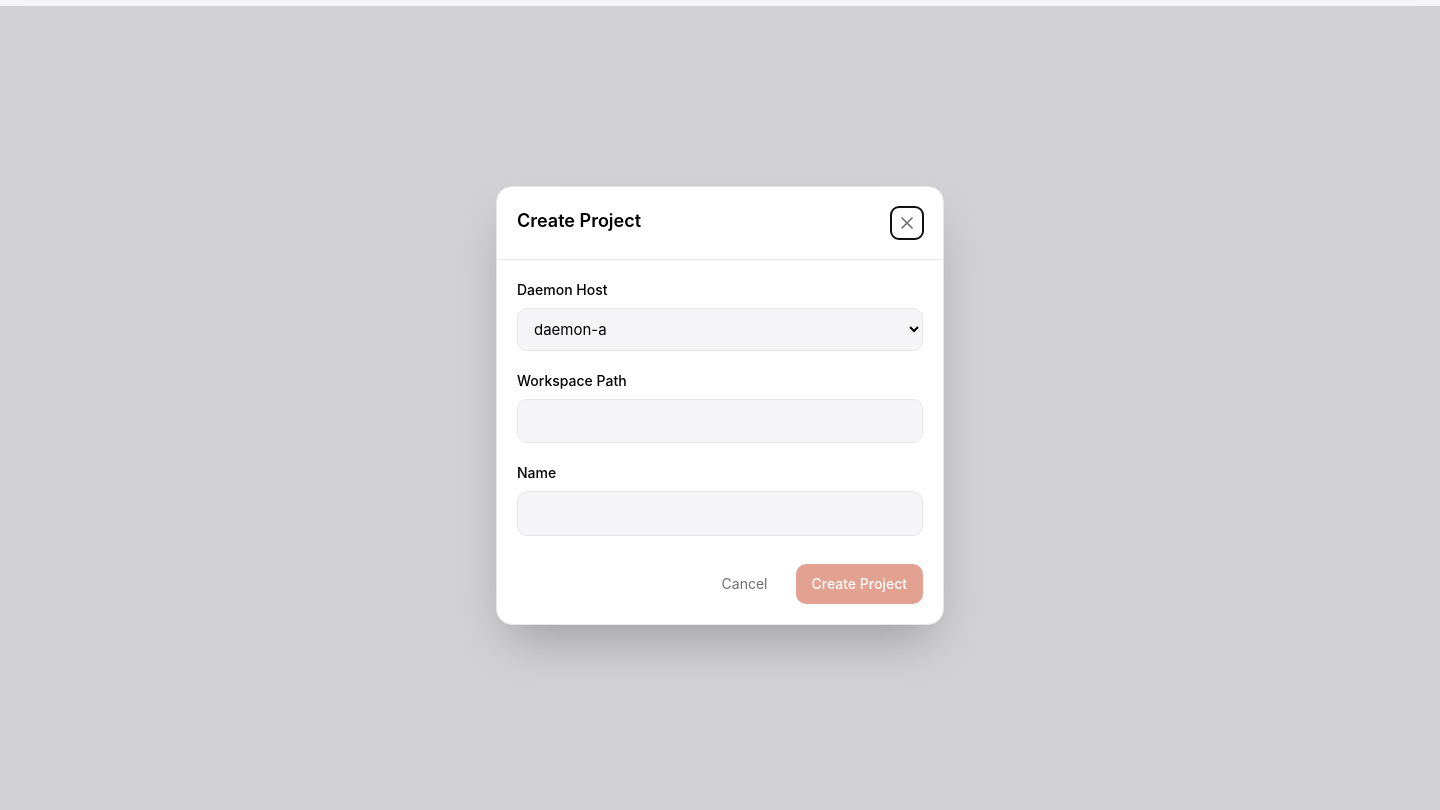
CreateProjectDialog › hides the create-directory prompt when the daemon is switched
In the field labelled "Workspace Path": (720, 421) [517,398,923,443], type "/repo/only-on-a"
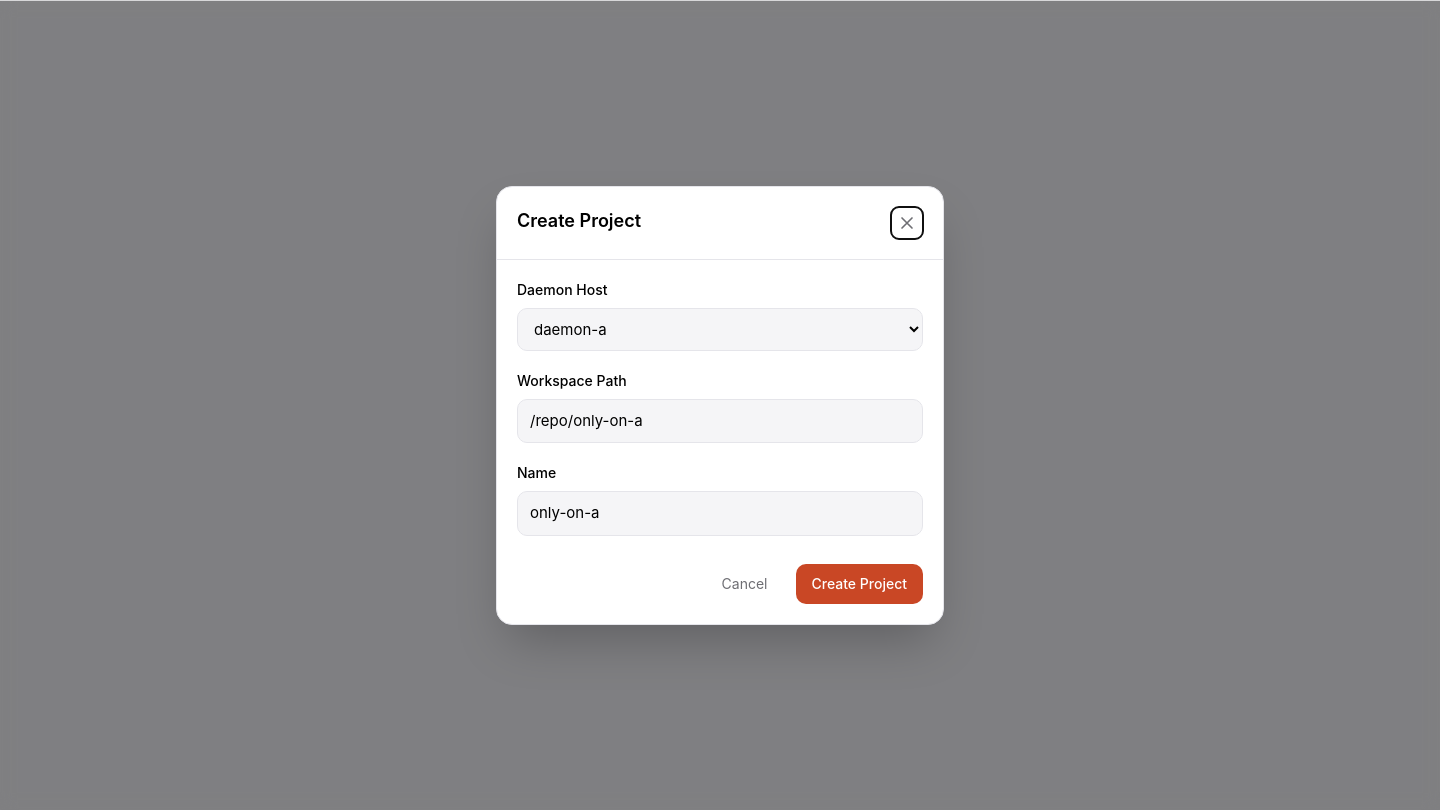
Click the button "Create Project": (859, 584) [796,564,923,604]
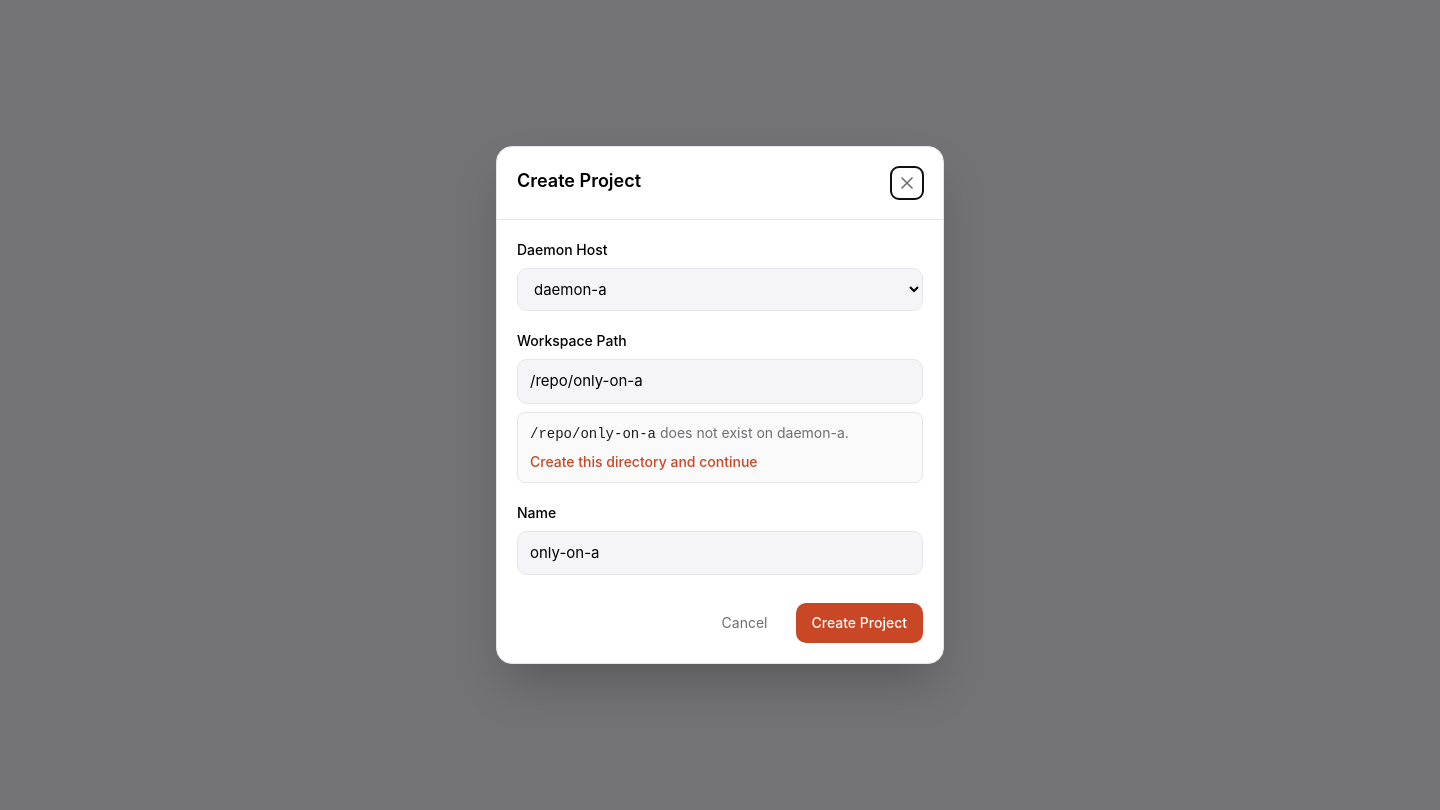
Check: the button "Create this directory and continue" is shown, box [530,452,758,472]
Select "daemon-b" in the dropdown labelled "Daemon Host": (720, 290) [517,268,923,311]
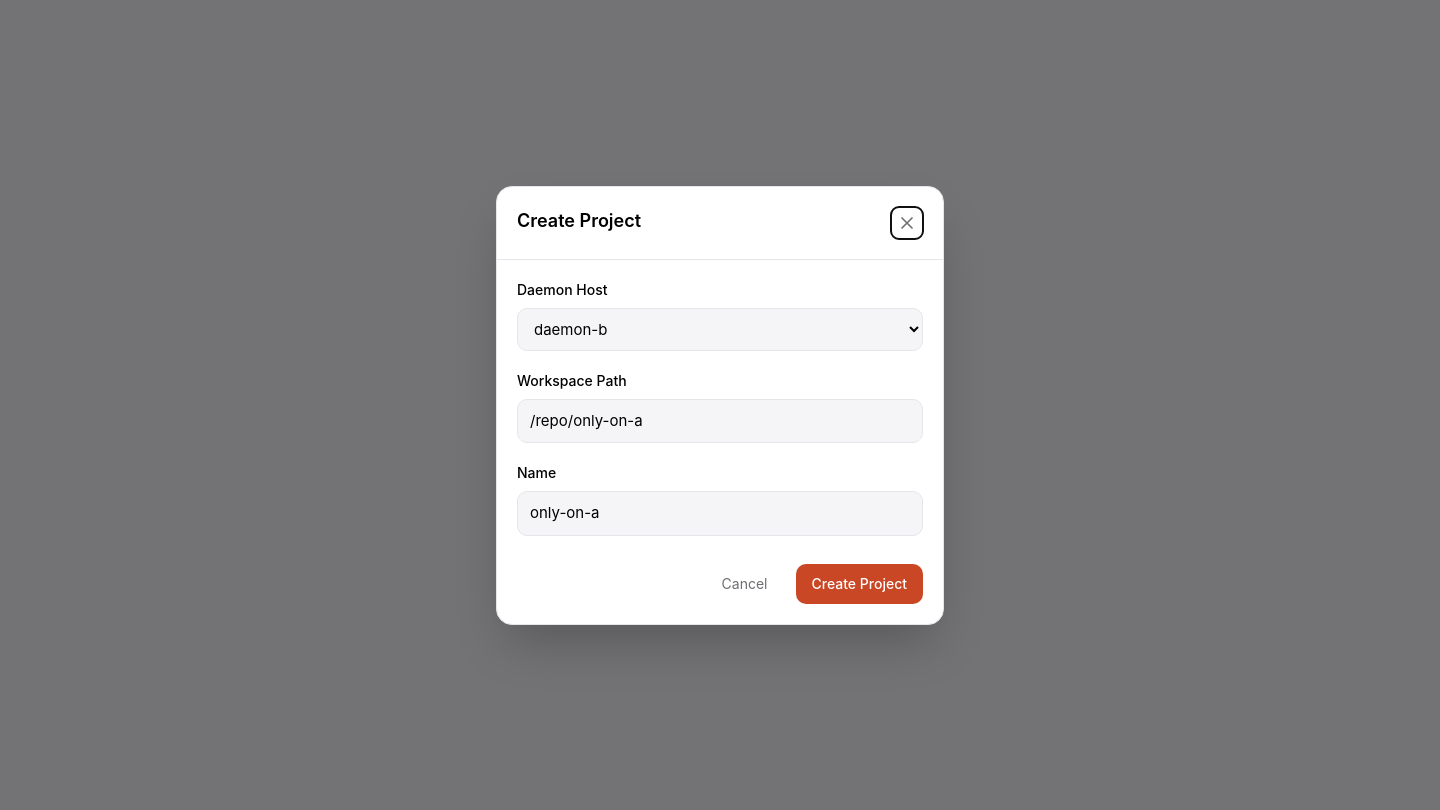
Check: the button "Create this directory and continue" is gone
